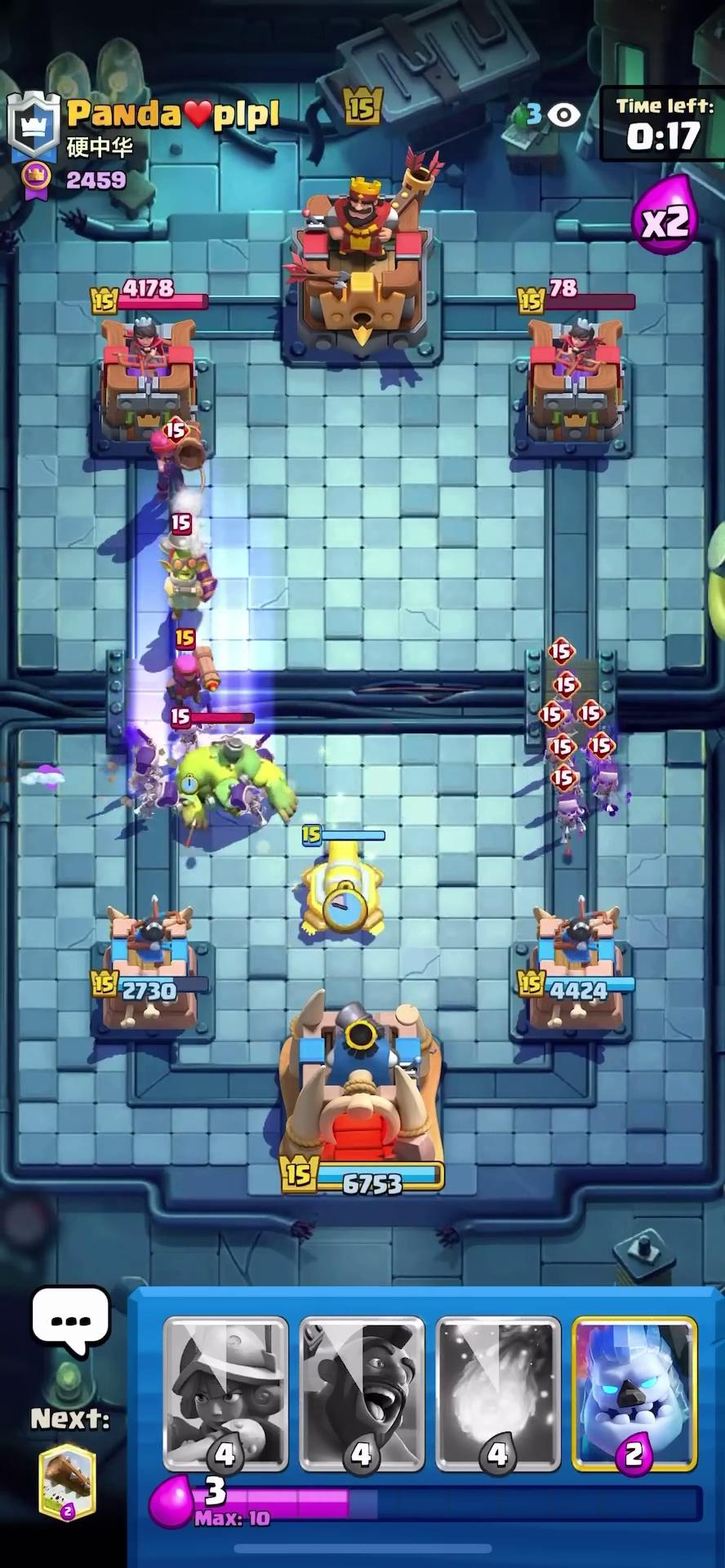cannon: (292, 829, 392, 945)
evo_skeletons: (120, 731, 182, 831), (192, 776, 261, 815)
